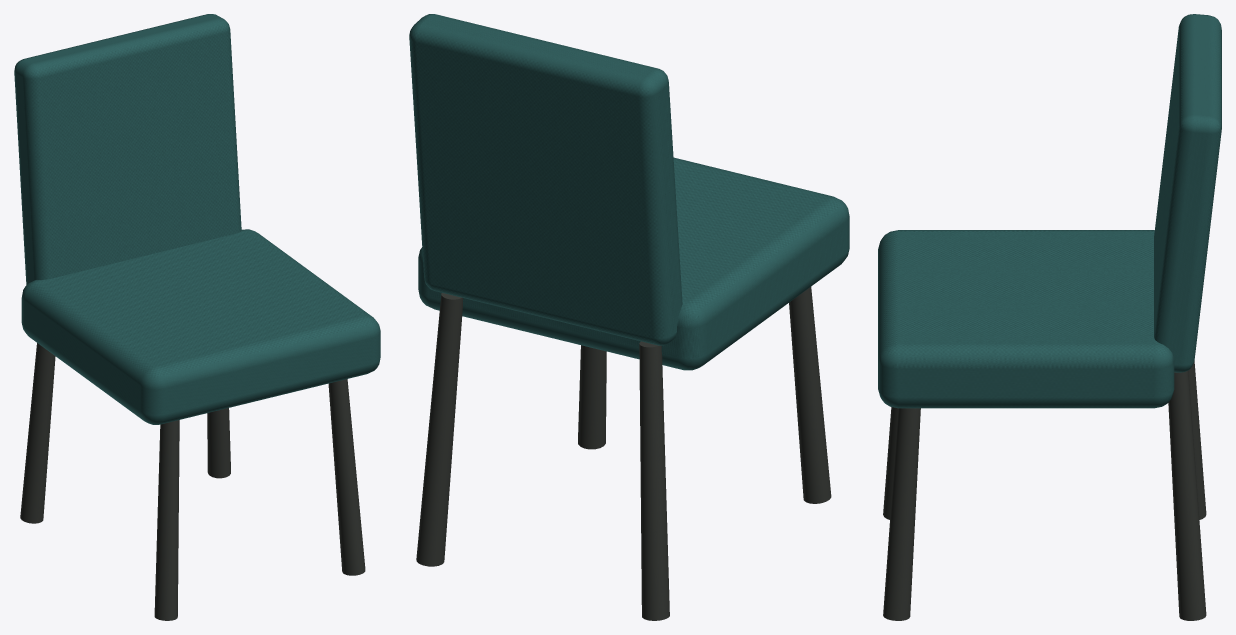
File: bergmund.glb
The picture shows the model from 3 angles, left to right: view 1: azimuth 30°, elevation 25°; view 2: azimuth 150°, elevation 25°; view 3: azimuth 270°, elevation 25°; orthographic projection. The views are drawn at different scales.
Parts seen in each view (by area): view 1: BERGMUND Upholstered dining chair; view 2: BERGMUND Upholstered dining chair; view 3: BERGMUND Upholstered dining chair.
Boxes of the visible parts, bbox=[...] form: BERGMUND Upholstered dining chair: bbox=[14, 14, 380, 620]; BERGMUND Upholstered dining chair: bbox=[409, 14, 849, 620]; BERGMUND Upholstered dining chair: bbox=[878, 14, 1221, 620].
Bounding box in the file's own units: 0.52 × 0.95 × 0.59.
2 materials, 2 textured.
